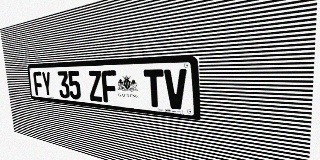3: (57, 71, 70, 99)
5: (68, 71, 81, 100)
F: (101, 70, 118, 103), (33, 71, 44, 96)
T: (143, 69, 165, 108)
V: (164, 69, 188, 110)
Y: (41, 71, 53, 97)
Z: (87, 70, 103, 102)
